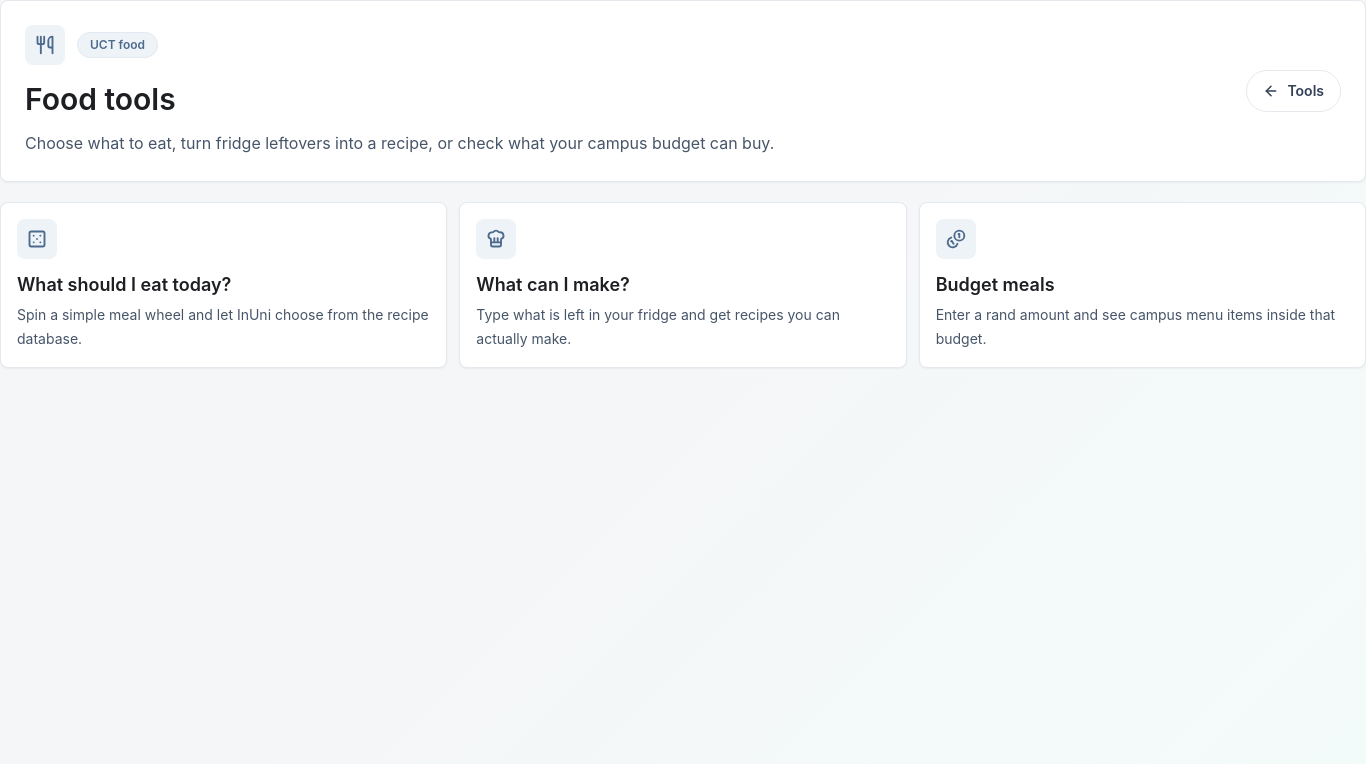
Test case: FoodToolPage › draws a meal in the what-to-eat mode
Step 1. Click the button "What should I eat today?" → [224, 285], box [0,202,447,368]
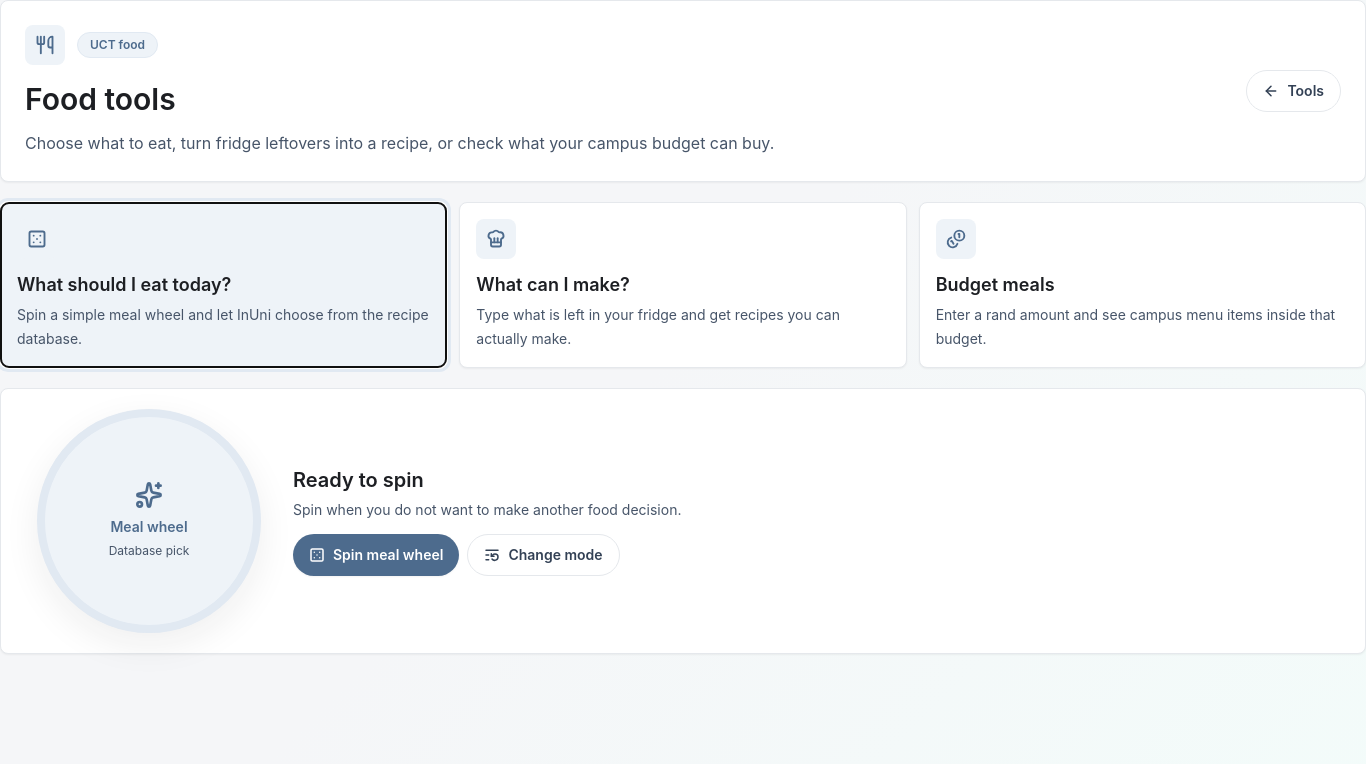
Step 2. Click the button "Spin meal wheel" → [376, 555], box [293,534,459,576]
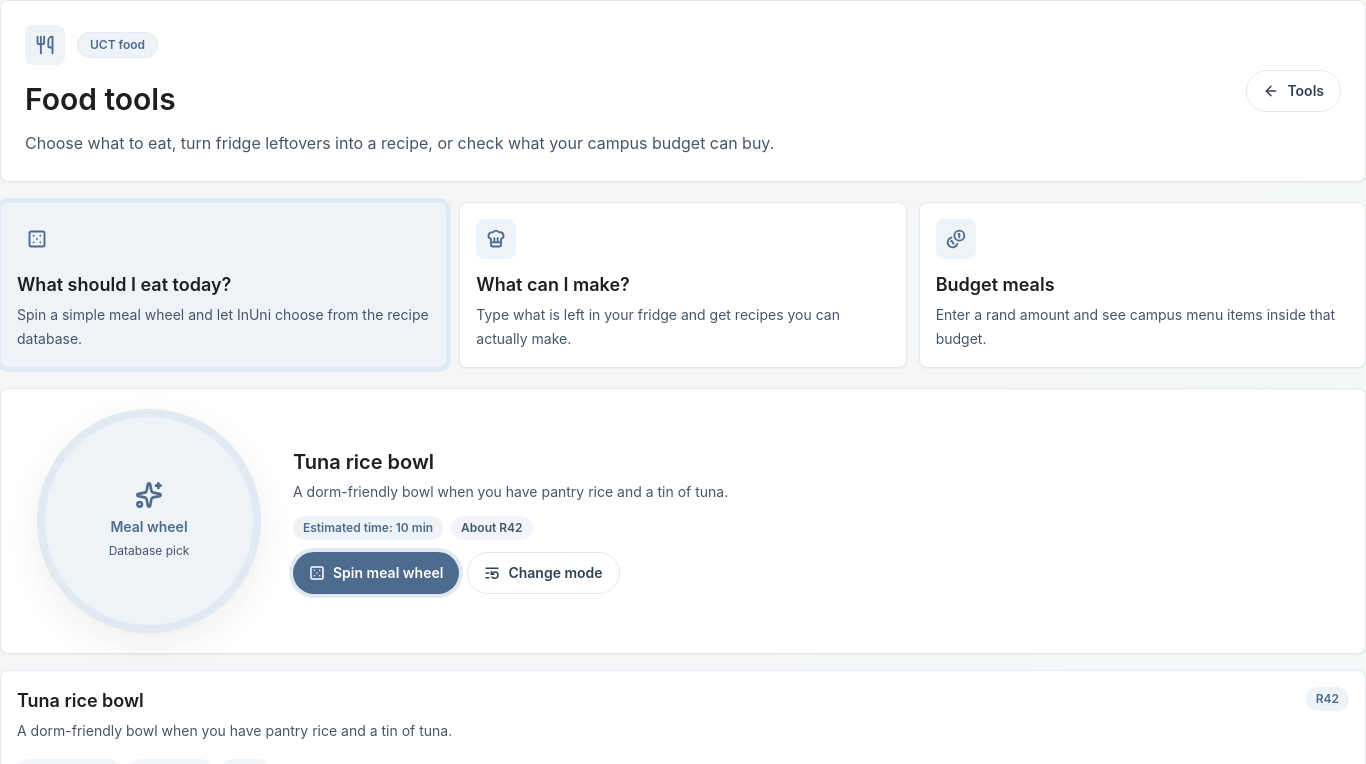
Now the text "Estimated time: 10 min" is shown, box [293,516,443,540]
